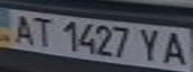1: (57, 19, 81, 52)
2: (93, 21, 115, 57)
4: (75, 20, 96, 55)
7: (112, 24, 136, 60)
A: (160, 29, 193, 66), (6, 11, 39, 46)
T: (27, 15, 57, 47)
Y: (136, 26, 166, 63)
